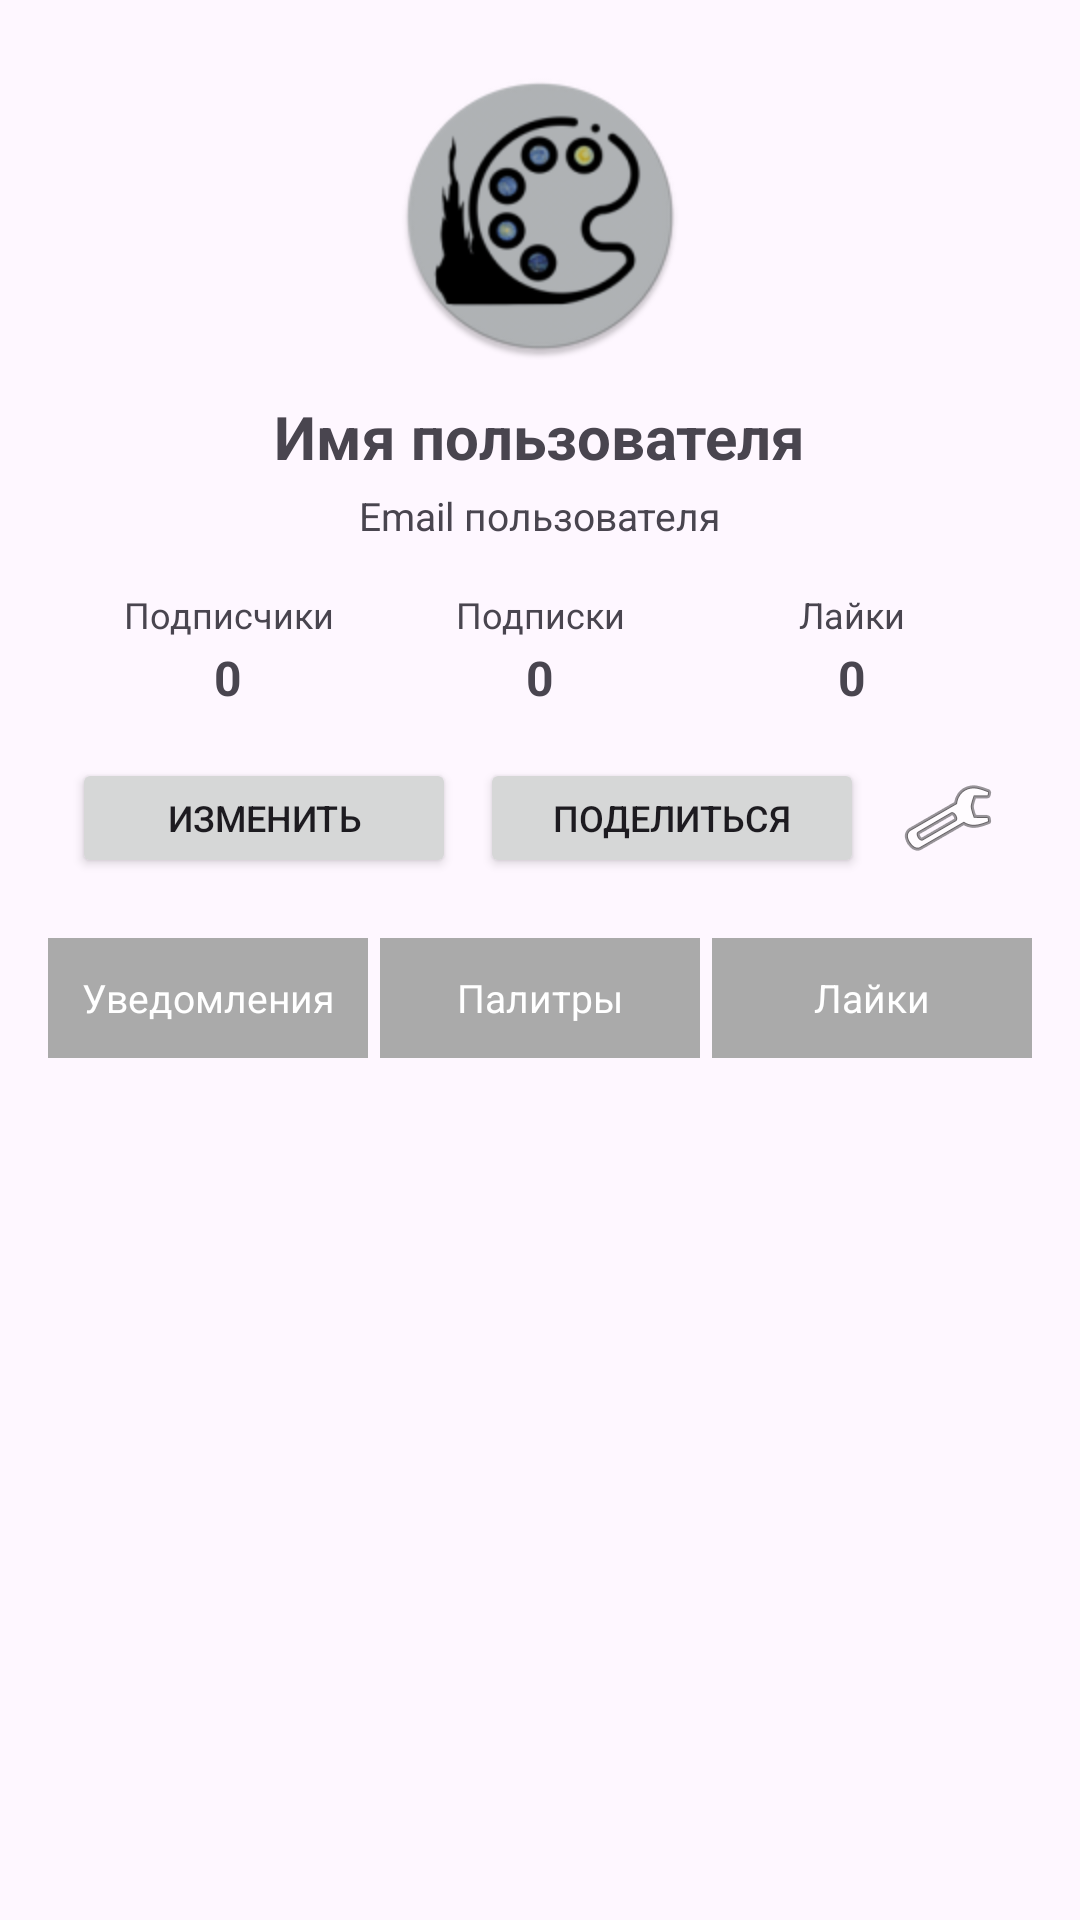

Icons on this 1080 × 1920 Android screen, each with its box as (x1, y1, x2, y2):
Настройки: (905, 785, 991, 851)
